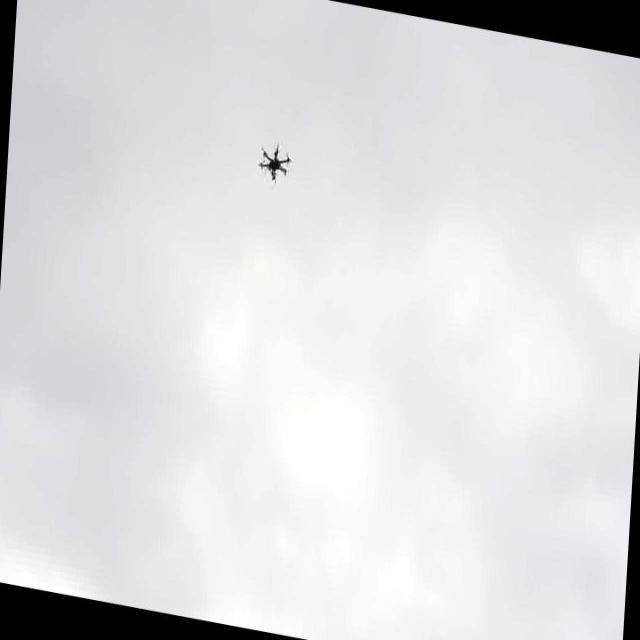drone: (252, 131, 294, 193)
